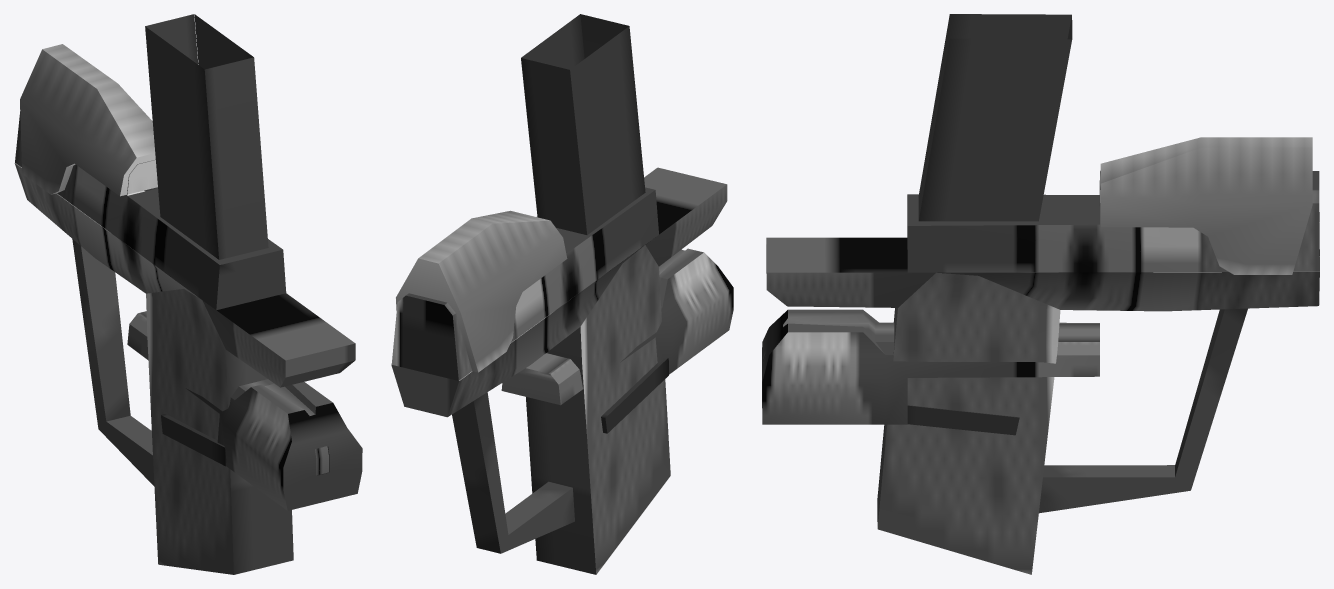
The model's file is Pistol.FBX.
The picture shows the model from 3 angles, left to right: view 1: azimuth 30°, elevation 25°; view 2: azimuth 150°, elevation 25°; view 3: azimuth 270°, elevation 25°; orthographic projection. The views are drawn at different scales.
Parts seen in each view (by area): view 1: Pistol, Magazine001, Slide; view 2: Pistol, Magazine001, Slide; view 3: Pistol, Magazine001, Slide.
Part boxes in pixels (x1,y1,x2,y2): Pistol: (14, 44, 355, 574); Magazine001: (145, 14, 268, 466); Slide: (127, 311, 362, 510); Pistol: (391, 167, 727, 574); Magazine001: (521, 14, 668, 433); Slide: (501, 248, 733, 405); Pistol: (766, 137, 1319, 574); Magazine001: (907, 14, 1072, 435); Slide: (762, 309, 1099, 424).
Bounding box in the file's own units: 82.89 × 483 × 510.
